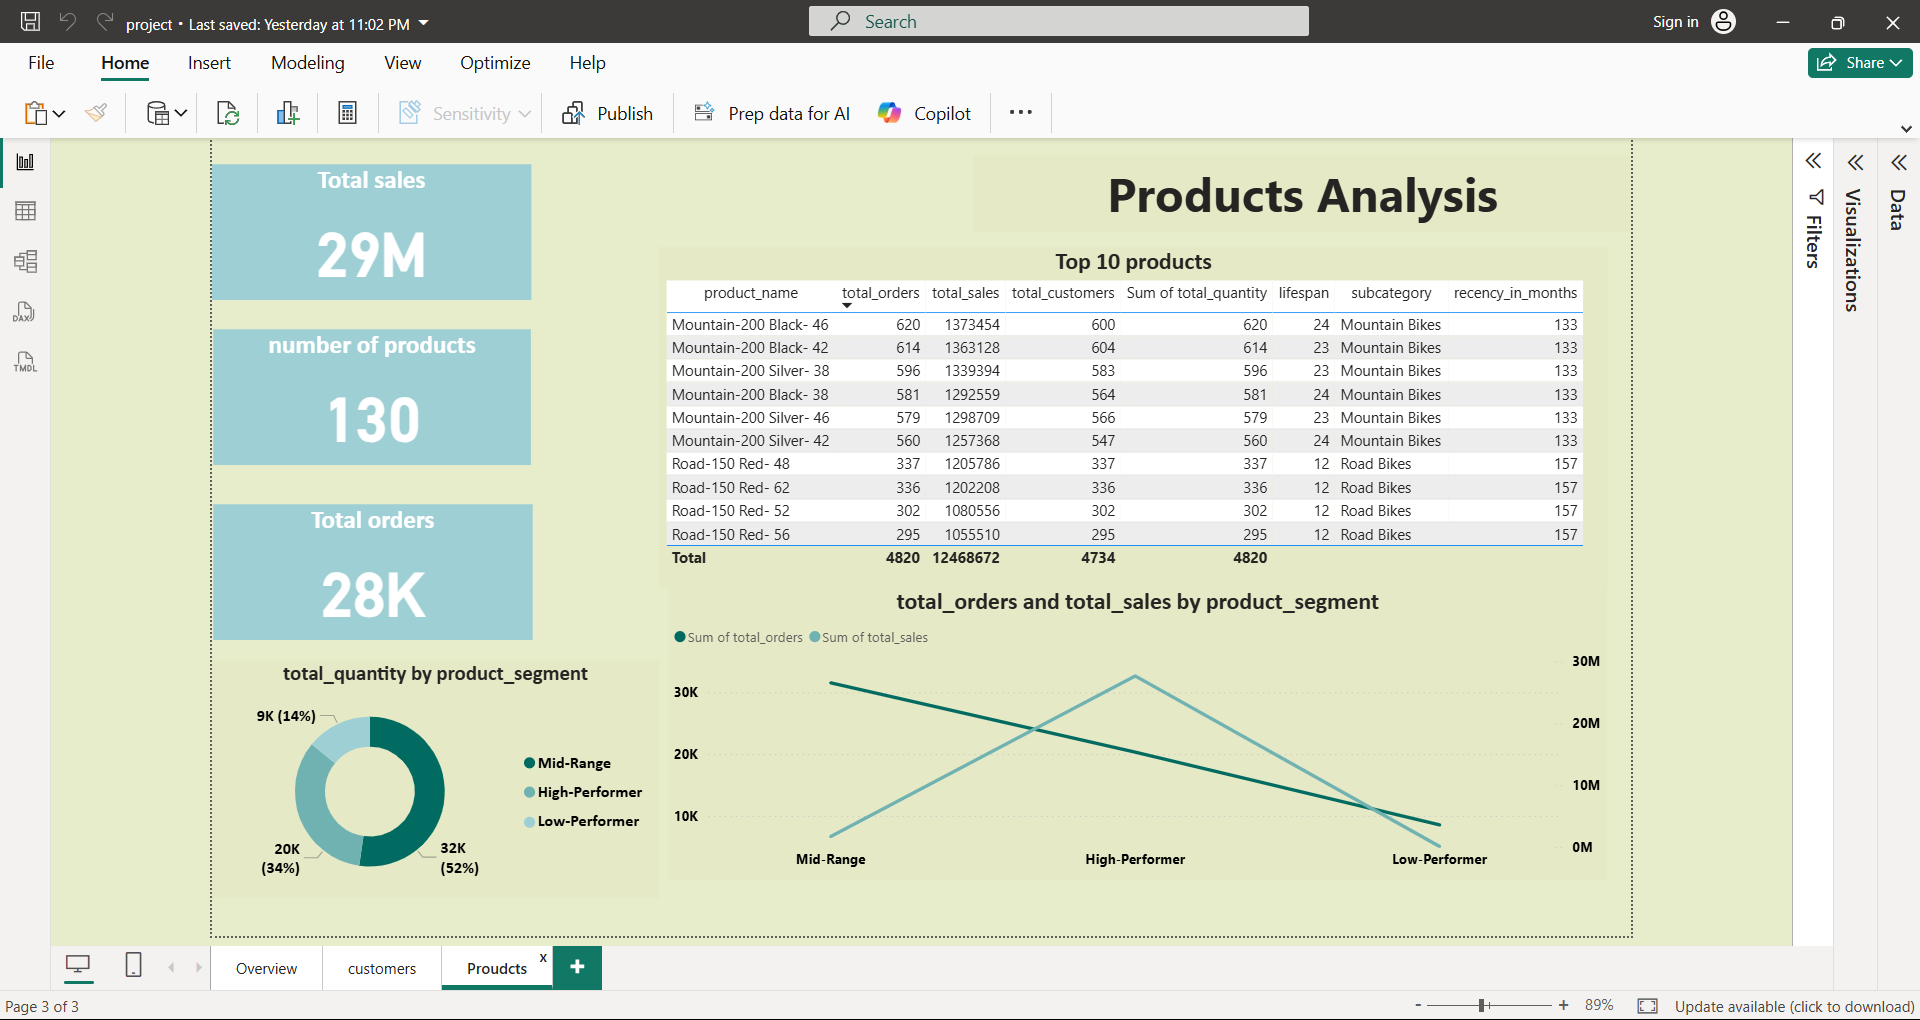

The dashboard page shown, as its layout file describes it:
{"tool":"powerbi","page":{"name":"Proudcts","canvas":[1280,720],"ordinal":2},"visuals":[{"type":"textbox","box":[686.1,15.9,594.2,68.6],"z":0},{"type":"tableEx","title":"Top 10 products","fields":{"Values":["gold report_products.product_name","Sum(gold report_products.total_orders)","Sum(gold report_products.total_sales)","Sum(gold report_products.total_customers)","Sum(gold report_products.total_quantity)","gold report_products.lifespan","gold report_products.subcategory","gold report_products.recency_in_months"]},"box":[403.1,98,855.1,306.3],"z":1},{"type":"card","title":"Total sales","fields":{"Values":["Sum(gold fact_sales.sales_amount)"]},"box":[0,23.3,287.9,122.5],"z":2},{"type":"card","title":"Total orders","fields":{"Values":["Sum(gold report_customers.total_orders)"]},"box":[1.2,330.8,287.9,122.5],"z":3},{"type":"card","title":"number of products","fields":{"Values":["CountNonNull(gold report_products.product_name)"]},"box":[1.2,172.7,286.7,122.5],"z":4},{"type":"lineChart","title":" total_orders and  total_sales by product_segment","fields":{"Category":["gold report_products.product_segment"],"Y":["Sum(gold report_products.total_orders)"],"Y2":["Sum(gold report_products.total_sales)"]},"box":[411.6,404.3,846.6,264.6],"z":5},{"type":"donutChart","title":" total_quantity by product_segment","fields":{"Category":["gold report_products.product_segment"],"Y":["Sum(gold report_products.total_quantity)"]},"box":[0,471.7,403.1,214.4],"z":6}]}

Visuals, with their boxes on the page's 1280x720 design canvas (x1, y1, x2, y2). These are canvas units, not pixel positions in the 1920x1020 screenshot, which may show the page scaled, cropped or inside an application window:
textbox: {"x1": 686, "y1": 16, "x2": 1280, "y2": 84}
"Top 10 products" tableEx: {"x1": 403, "y1": 98, "x2": 1258, "y2": 404}
"Total sales" card: {"x1": 0, "y1": 23, "x2": 288, "y2": 146}
"Total orders" card: {"x1": 1, "y1": 331, "x2": 289, "y2": 453}
"number of products" card: {"x1": 1, "y1": 173, "x2": 288, "y2": 295}
" total_orders and  total_sales by product_segment" lineChart: {"x1": 412, "y1": 404, "x2": 1258, "y2": 669}
" total_quantity by product_segment" donutChart: {"x1": 0, "y1": 472, "x2": 403, "y2": 686}
